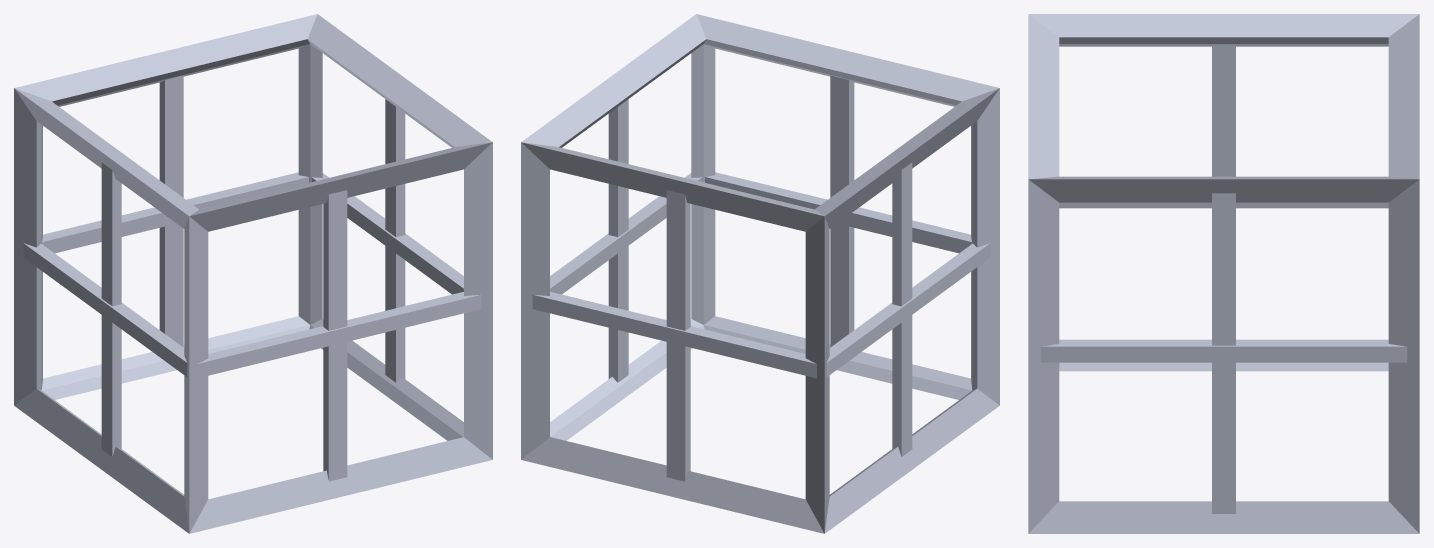
File: metalFrame01.fbx
3 renders of one model, left to right at view 1: azimuth 30°, elevation 25°; view 2: azimuth 150°, elevation 25°; view 3: azimuth 270°, elevation 25°, orthographic. The views are drawn at different scales.
Parts seen in each view (by area): view 1: Cube; view 2: Cube; view 3: Cube.
Part boxes in pixels (left/top/right/bottom): Cube: left=14, top=14, right=492, bottom=533; Cube: left=521, top=14, right=999, bottom=533; Cube: left=1028, top=14, right=1419, bottom=533.
Size of the model in its own units: 2 by 2 by 2.
